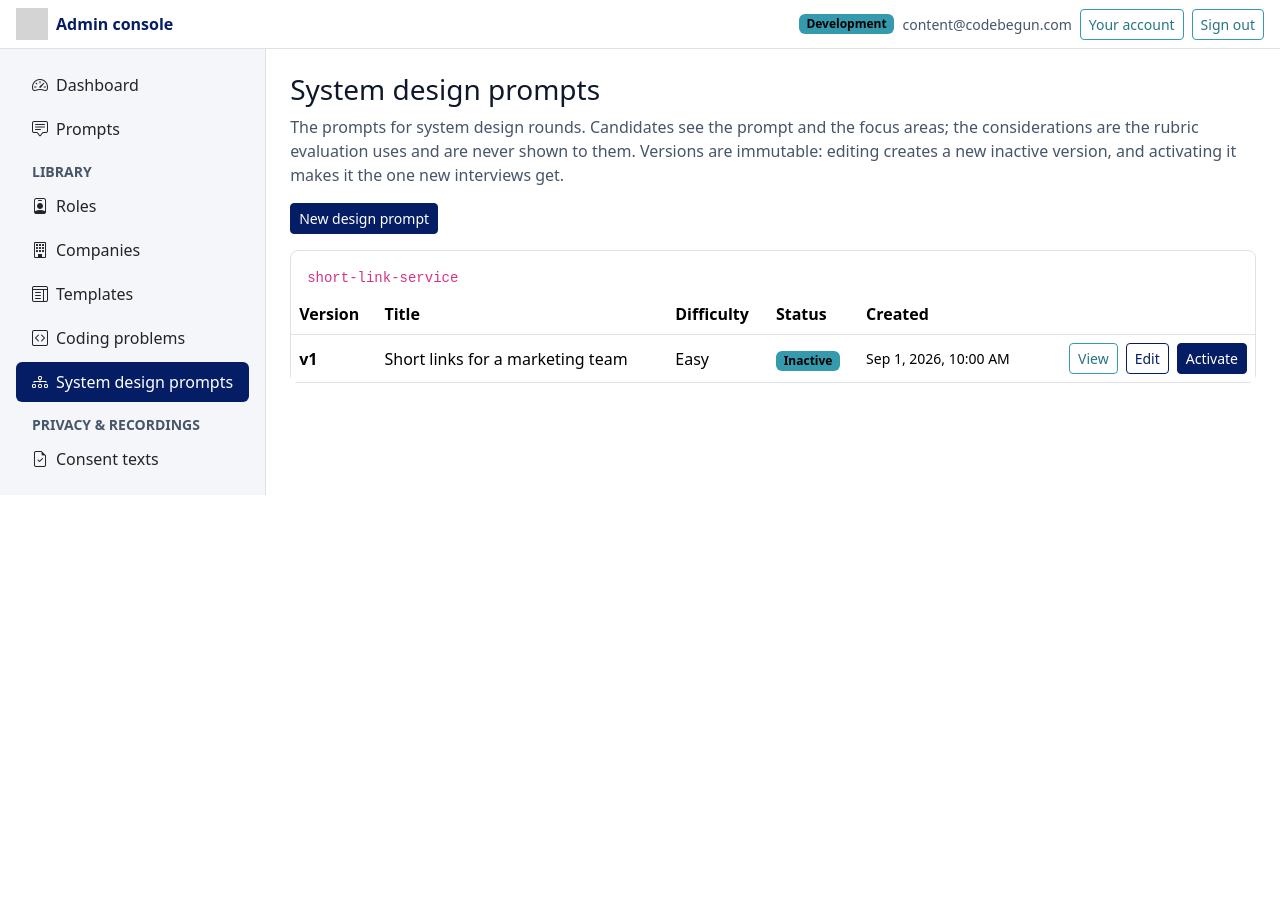
Test: system design prompts › activates a version only with a reason
Click the button with aria-label "Activate short-link-service v1": x=1212, y=359 [1177,343,1247,374]
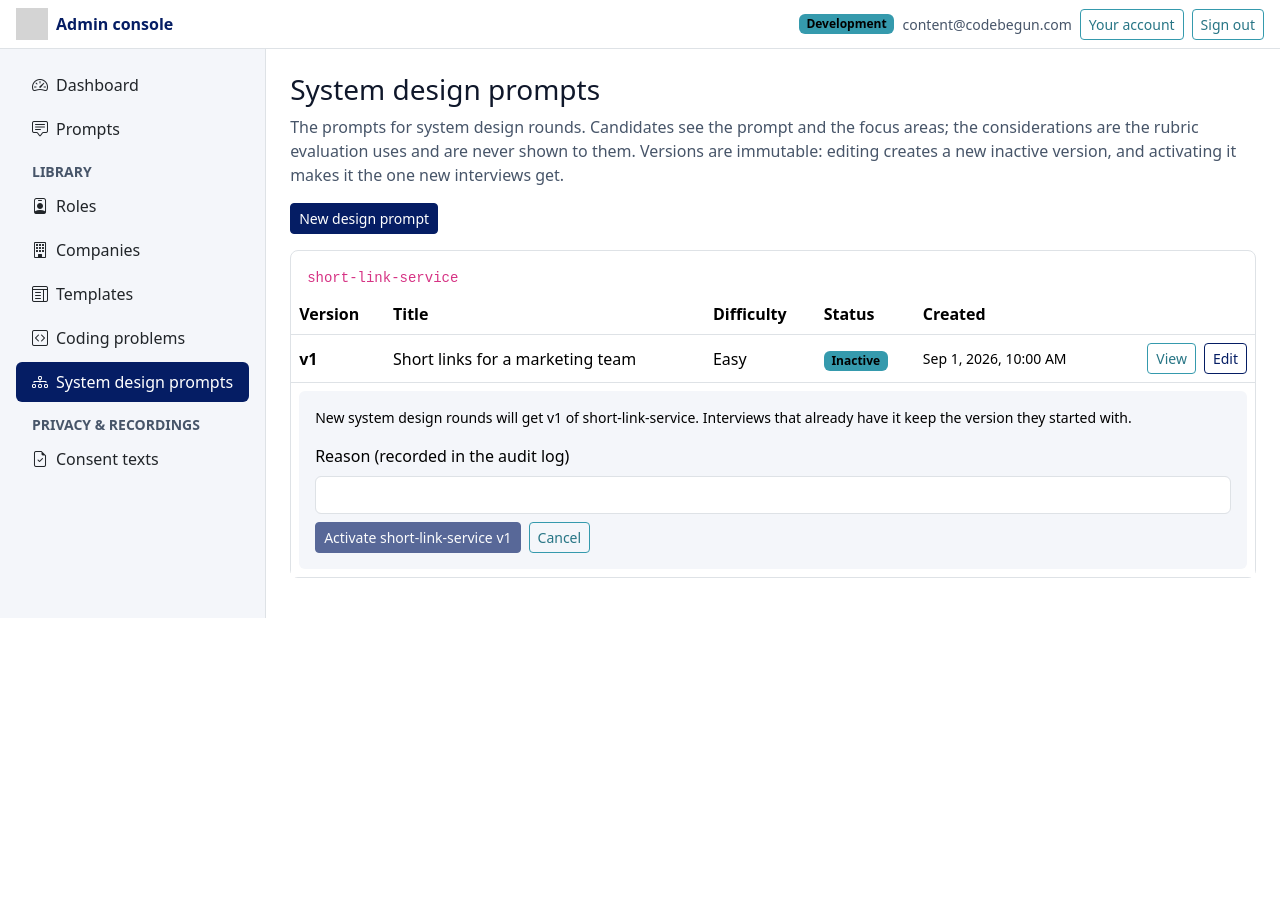
In the field labelled "Reason (recorded in the audit log)": x=773, y=495 [315,476,1231,514], type "Reviewed"
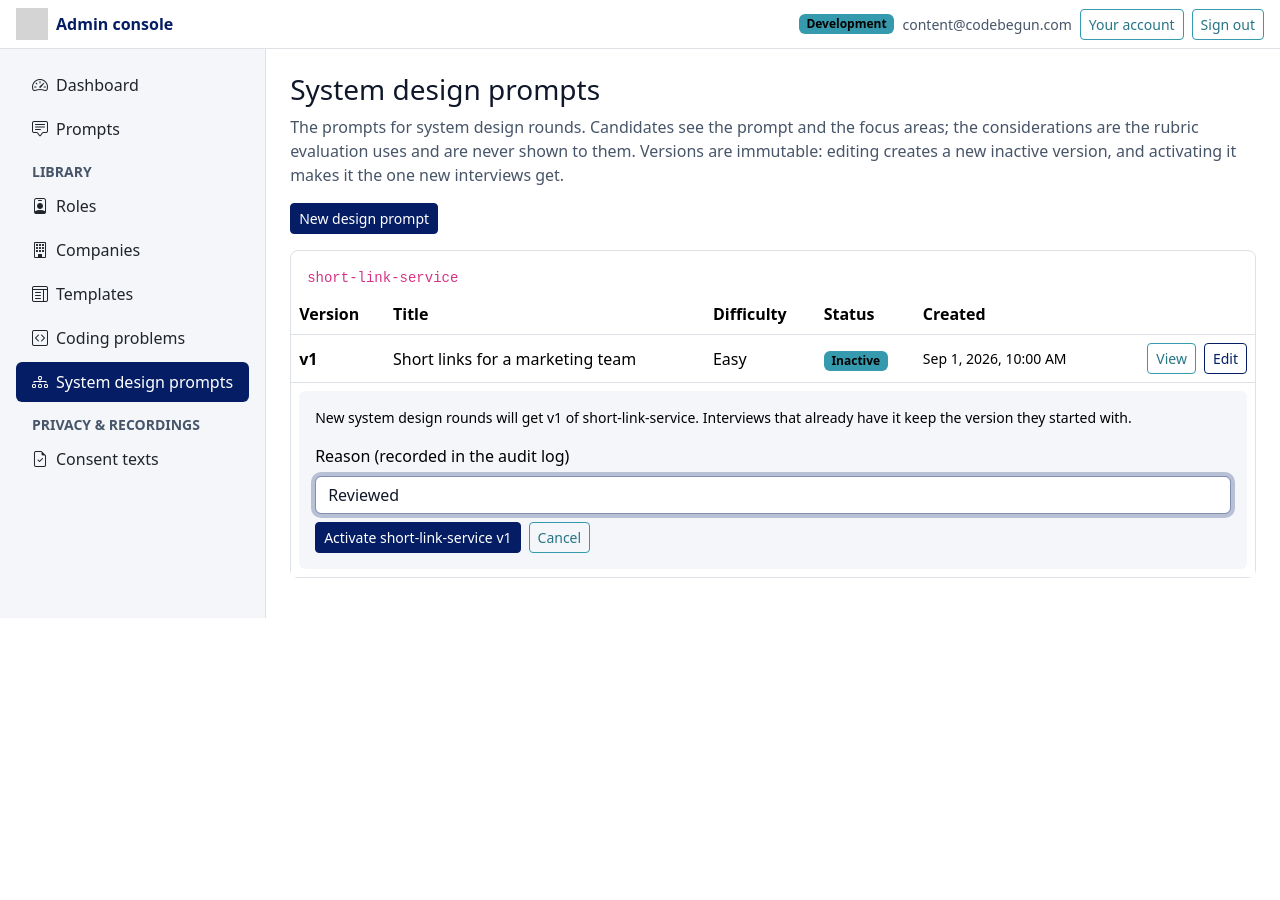
Click the button "Activate short-link-service v1": x=418, y=538 [315,522,520,553]
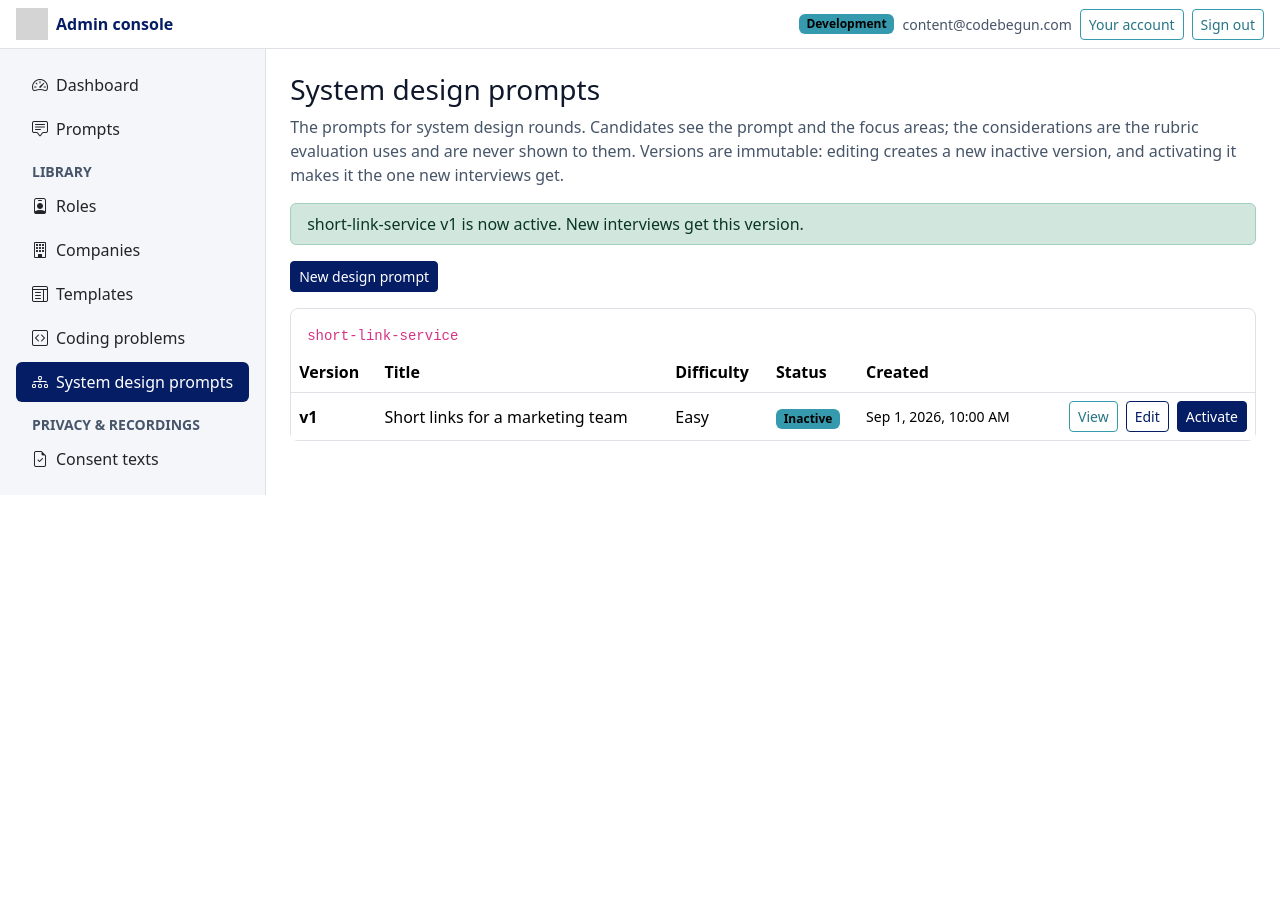
Check: the text "short-link-service v1 is now active. New interviews get this version." is shown, box [290,203,1256,245]
